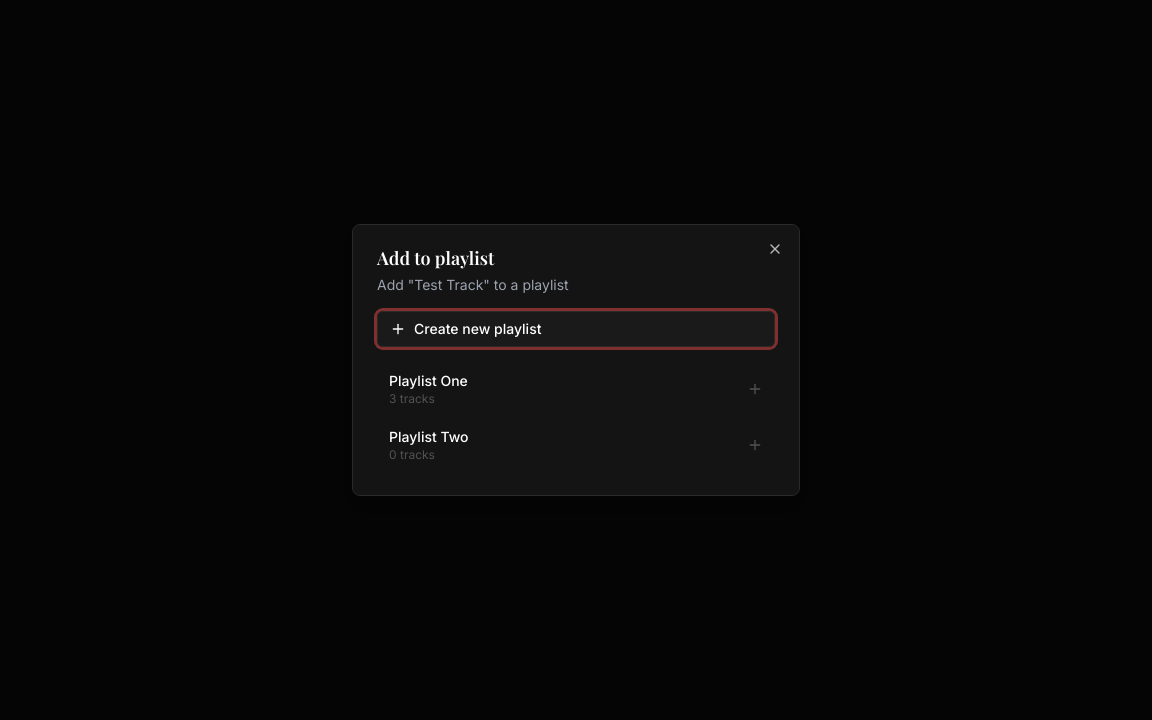
Test: AddToPlaylistDialog › shows create new playlist form
The image size is (1152, 720).
Step 1. Click the button "Create new playlist" → x=478, y=328, box x1=377 y1=311 x2=775 y2=347
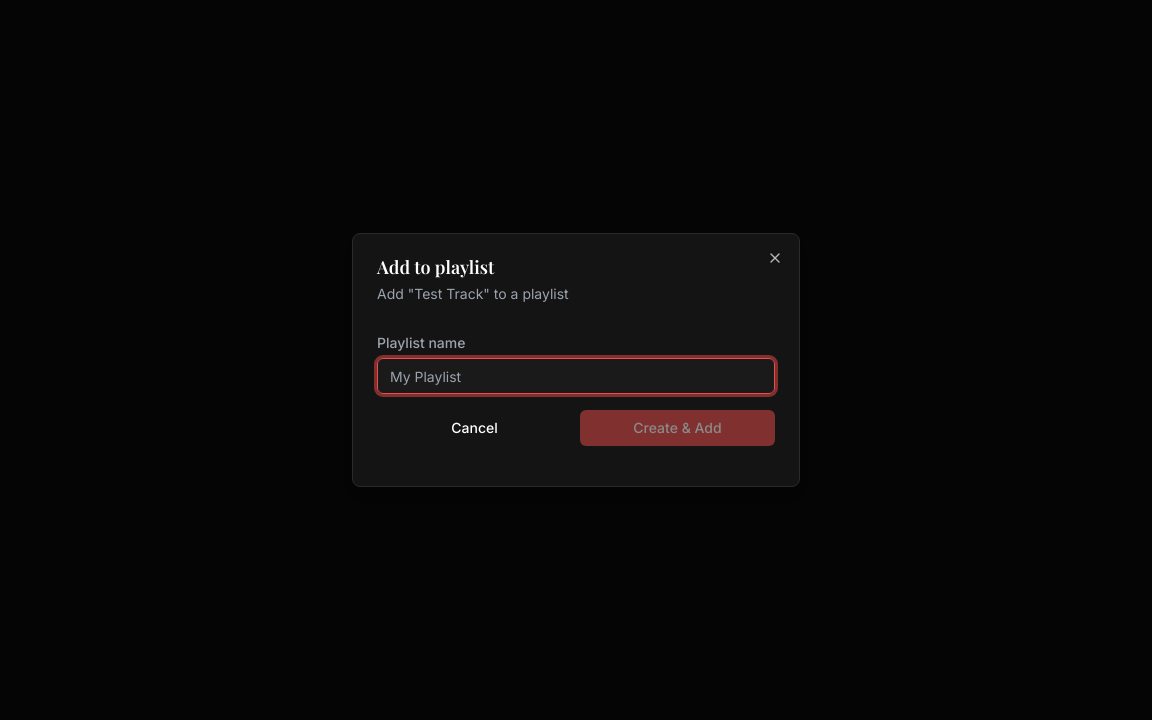
expect the field labelled "Playlist name" is shown: met, box x1=377 y1=358 x2=775 y2=394
expect the button "Create & Add" is shown: met, box x1=580 y1=410 x2=775 y2=446
